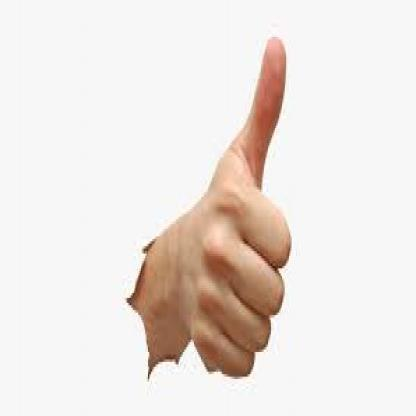thumb_up: (186, 35, 291, 381)
